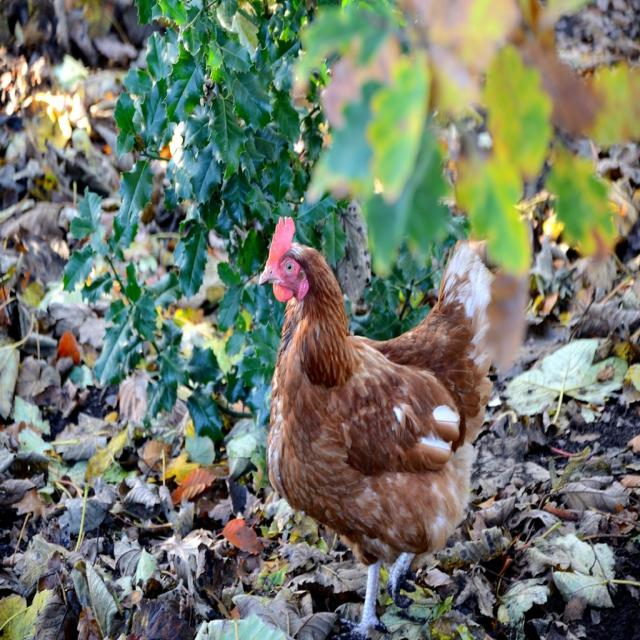Chicken: (258, 215, 497, 640)
